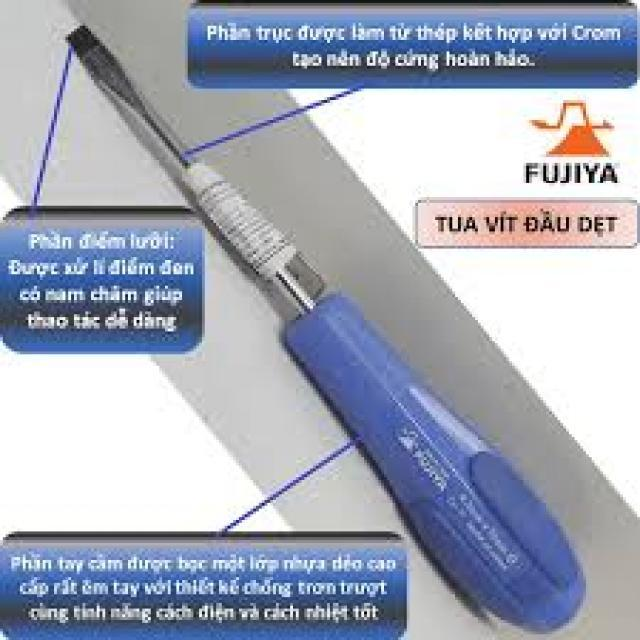screwdriver: (67, 23, 590, 632)
